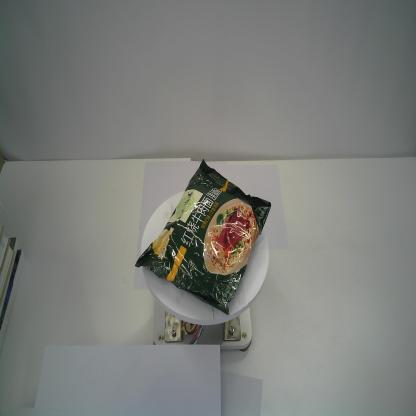Instant Noodles: (134, 156, 273, 319)
